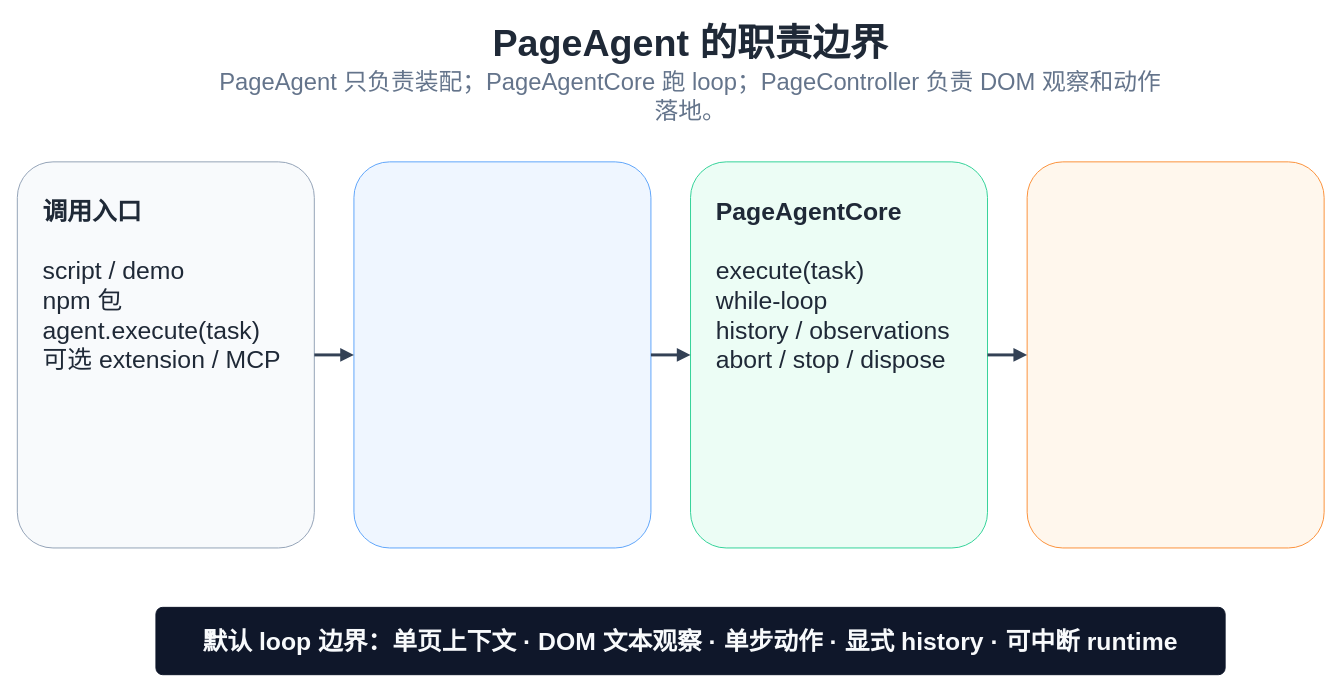
The diagram is 1341 pixels wide and 692 high, and some of its shapes have lost their labels. The centre of each missing label's shape, as x and y in pixels:
PageAgent new PageController() super(pageController) new Panel() 对外 API 外壳: [502,354]
页面内依赖 LLM.invoke() DOM 文本状态 工具动作执行 Panel 状态展示: [1175,354]
